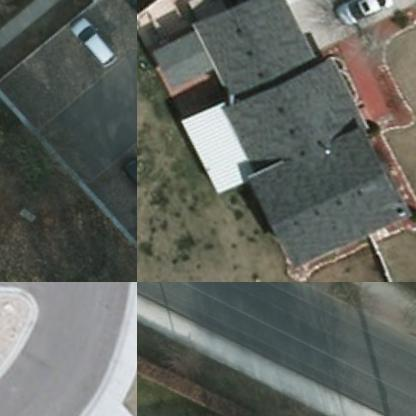car: (62, 14, 121, 70), (325, 0, 397, 38), (108, 148, 136, 206), (111, 0, 136, 36)
